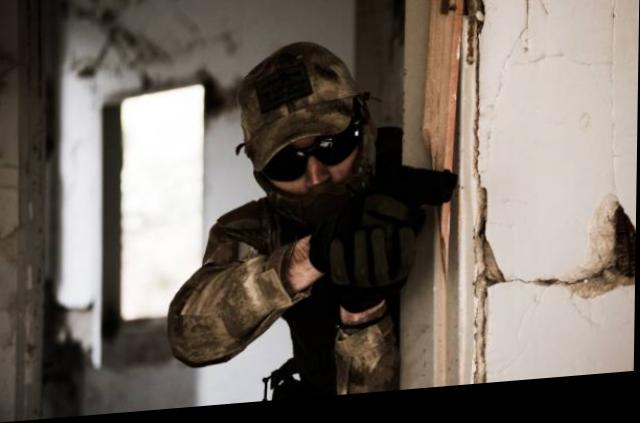other: (168, 40, 410, 406)
